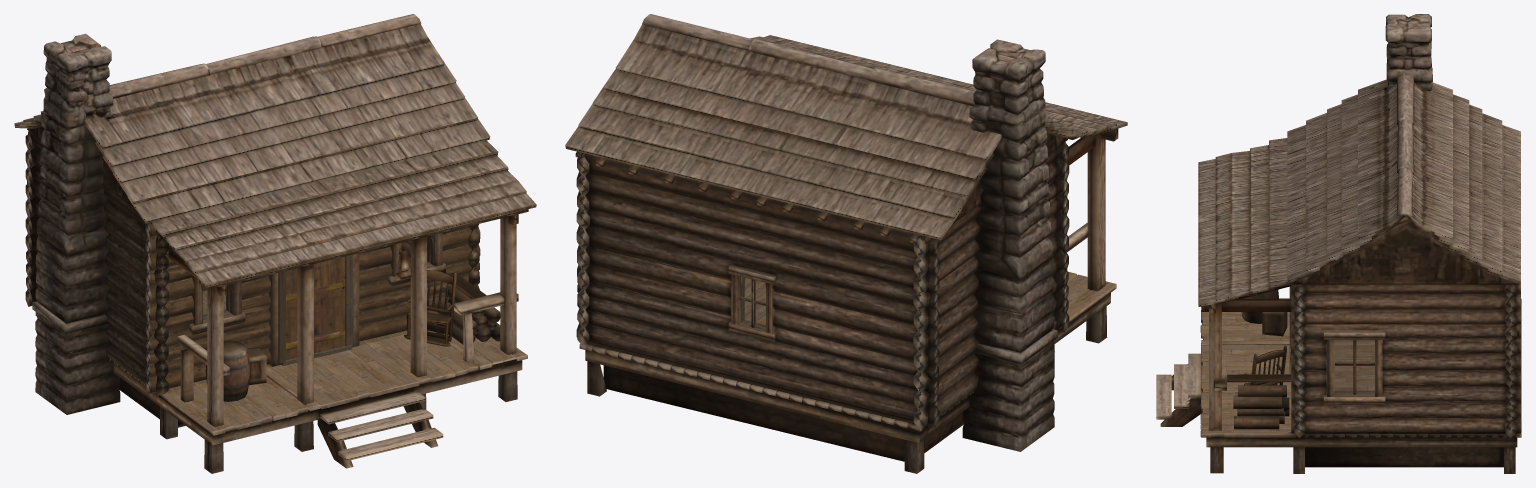
Rendered from cabin_inside.glb.
The picture shows the model from 3 angles, left to right: view 1: azimuth 30°, elevation 25°; view 2: azimuth 150°, elevation 25°; view 3: azimuth 270°, elevation 25°; orthographic projection. The views are drawn at different scales.
Visible parts, largest first — view 1: Cabin, Door; view 2: Cabin; view 3: Cabin.
Part boxes in pixels (x1,y1,x2,y2): Cabin: (14, 14, 536, 473); Door: (286, 256, 345, 360); Cabin: (565, 14, 1127, 473); Cabin: (1156, 14, 1521, 473).
Size of the model in its own units: 6.6 by 5.88 by 6.29.
Materials: 12 (12 with a texture image).
